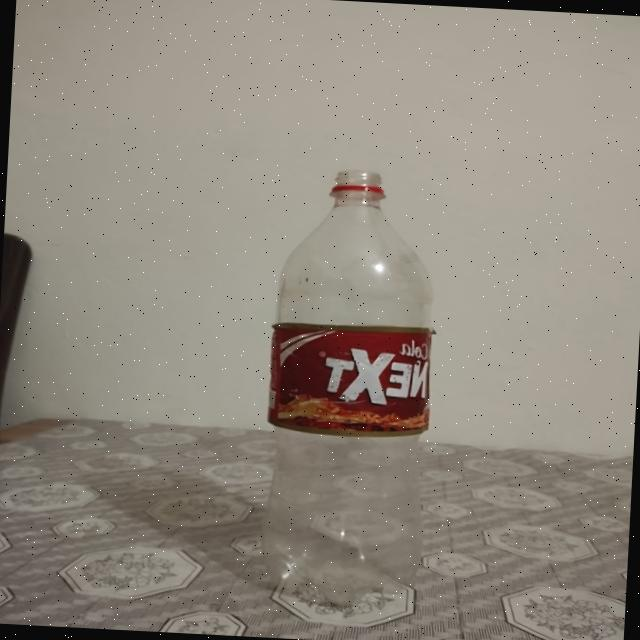bottle: (254, 168, 433, 616)
label: (258, 320, 433, 446)
